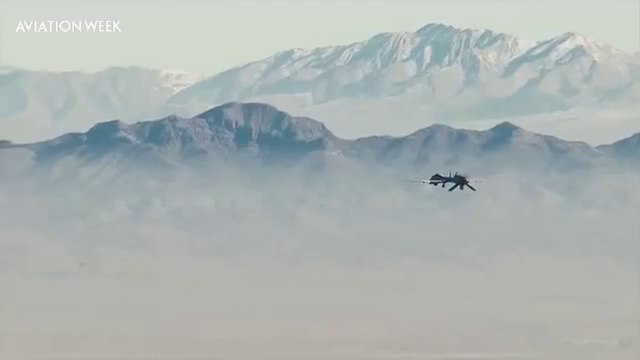military drone: (405, 170, 493, 192)
